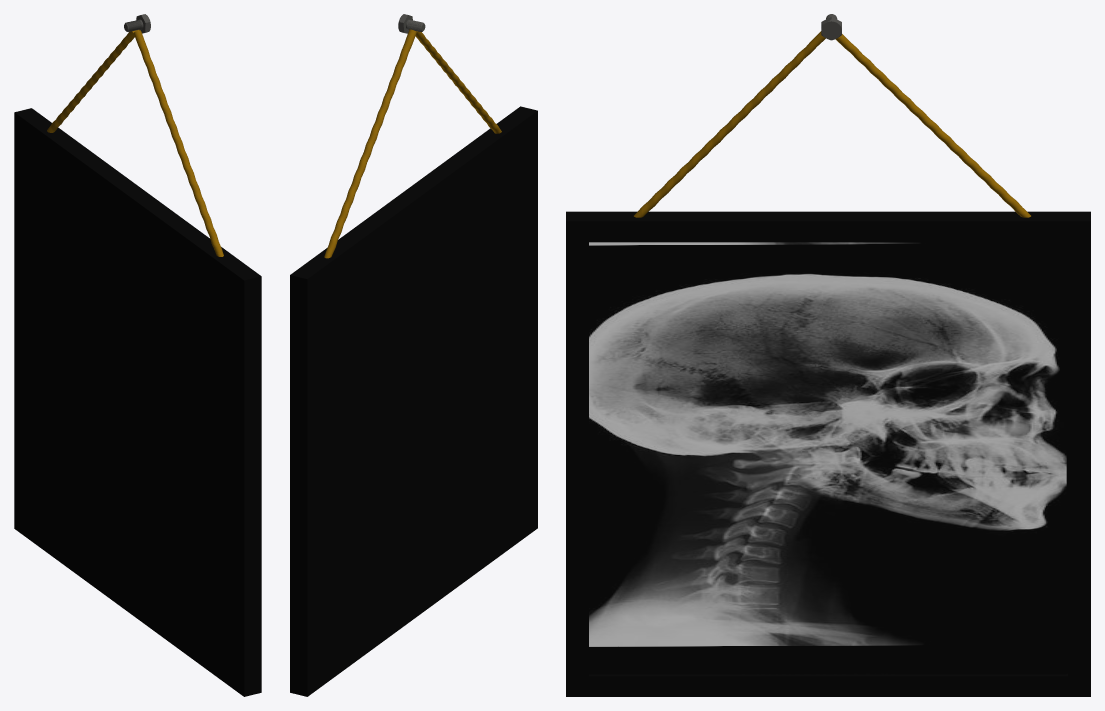
File: x-ray tablo.fbx
3 renders of one model, left to right at view 1: azimuth 30°, elevation 25°; view 2: azimuth 150°, elevation 25°; view 3: azimuth 270°, elevation 25°, orthographic. The views are drawn at different scales.
Parts seen in each view (by area): view 1: Bolt.002; view 2: Bolt.002; view 3: Bolt.002.
Part boxes in pixels (left/top/right/bottom): Bolt.002: left=14, top=14, right=261, bottom=696; Bolt.002: left=290, top=14, right=537, bottom=696; Bolt.002: left=566, top=14, right=1090, bottom=696.
Bounding box in the file's own units: 10.54 × 285 × 200.
Materials: 4 (1 with a texture image).
